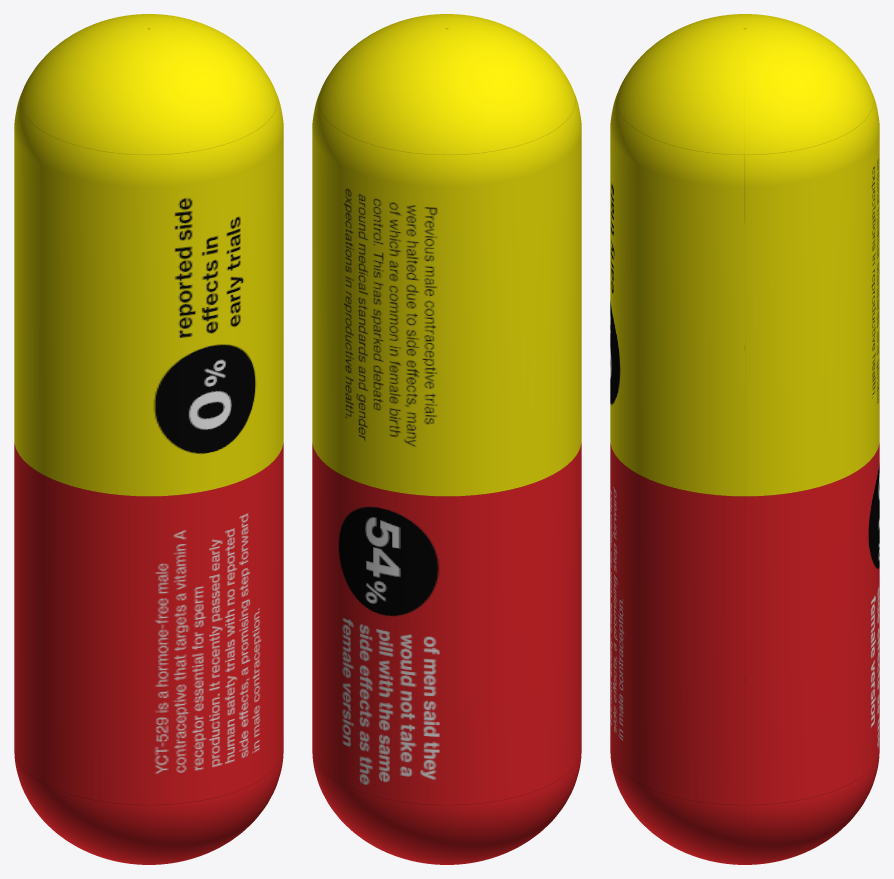
The model's file is redpill_text.gltf.
3 renders of one model, left to right at view 1: azimuth 30°, elevation 25°; view 2: azimuth 150°, elevation 25°; view 3: azimuth 270°, elevation 25°, orthographic.
Size of the model in its own units: 0.0446 by 0.1499 by 0.0446.
Materials: 2 (2 with a texture image).
